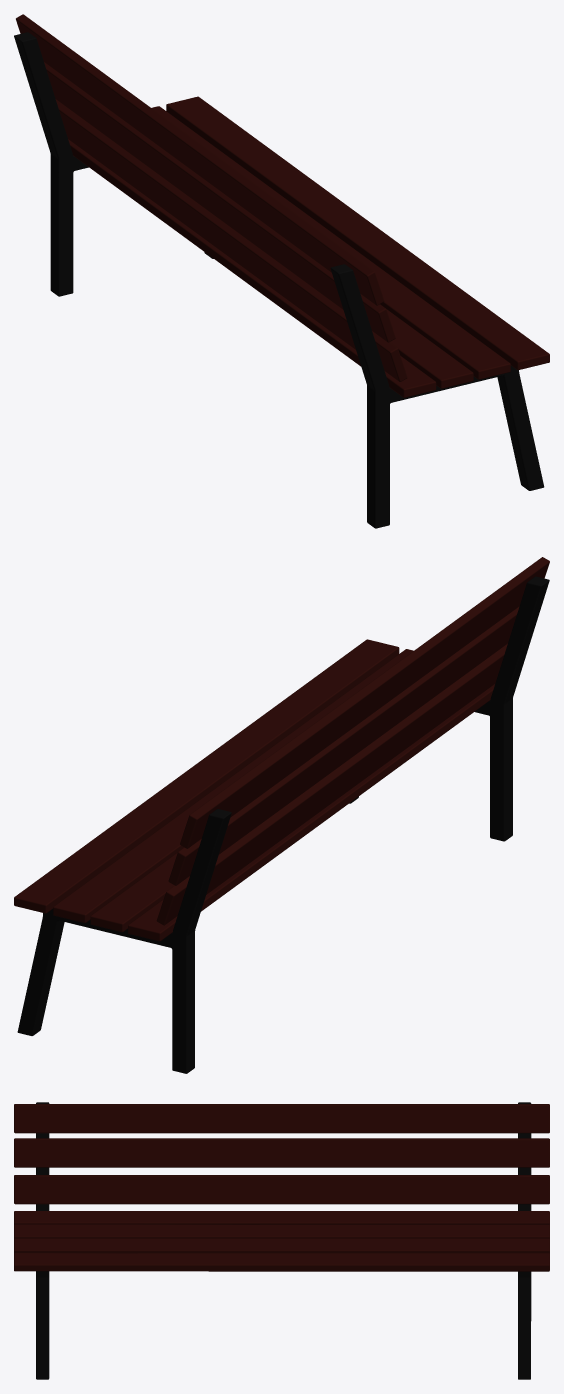
File: bench.obj
The picture shows the model from 3 angles, top to bottom: view 1: azimuth 30°, elevation 25°; view 2: azimuth 150°, elevation 25°; view 3: azimuth 270°, elevation 25°; orthographic projection. The views are drawn at different scales.
Parts seen in each view (by area): view 1: bench_Куб.004; view 2: bench_Куб.004; view 3: bench_Куб.004.
Part boxes in pixels (x1,y1,x2,y2): bench_Куб.004: (14,14,549,528); bench_Куб.004: (14,557,549,1073); bench_Куб.004: (14,1102,549,1379).
Bounding box in the file's own units: 0.7407 × 0.9315 × 2.19.
